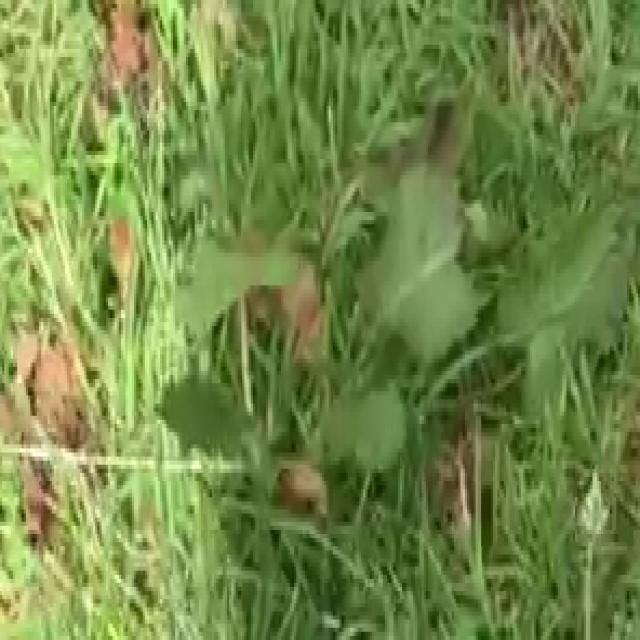organic waste: (145, 94, 638, 607)
